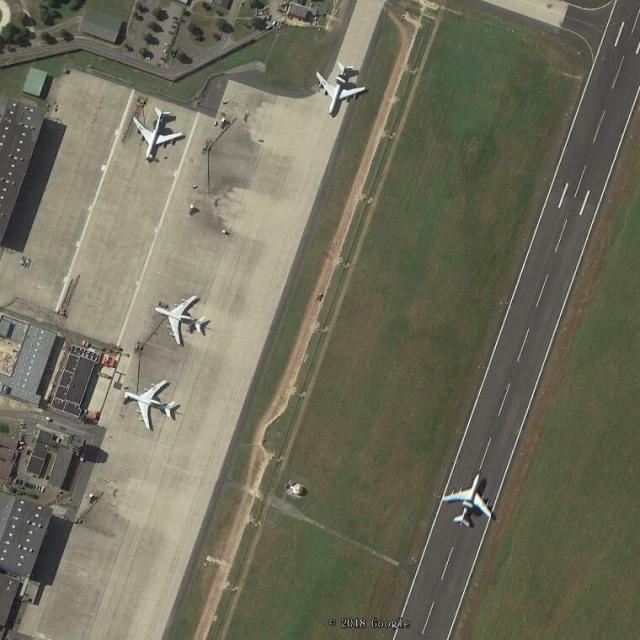fighter jet: (120, 371, 183, 431), (440, 467, 496, 529), (128, 102, 183, 165), (154, 294, 214, 350), (313, 60, 367, 115)
